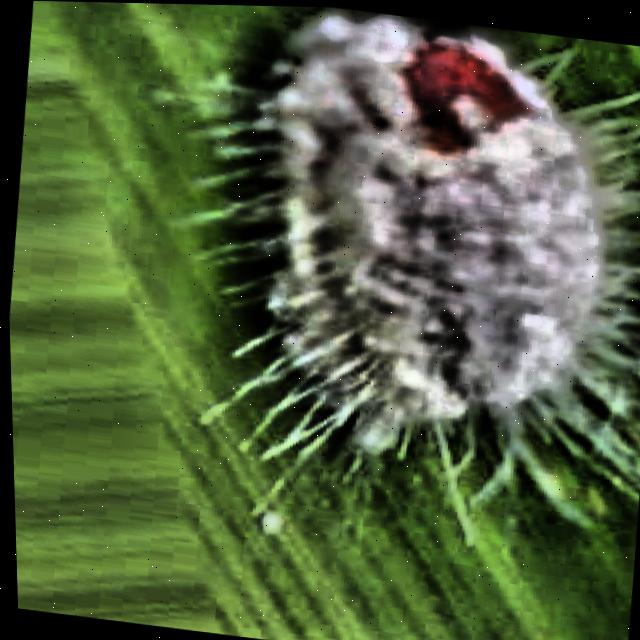Mealy-bug: (172, 3, 640, 497)
